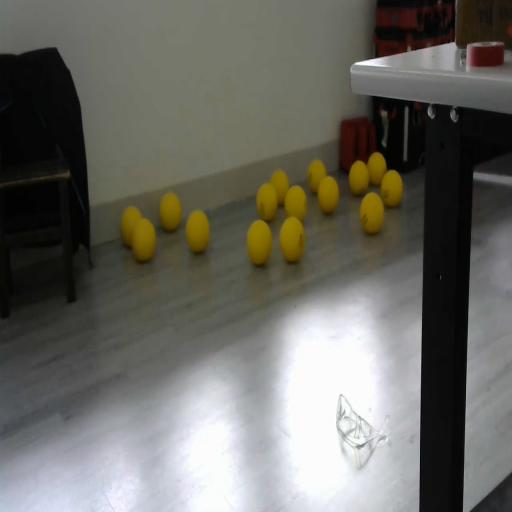FUEL: (278, 215, 306, 263), (246, 218, 273, 266), (184, 208, 211, 254), (120, 204, 144, 248), (360, 191, 384, 234), (284, 184, 308, 223), (380, 169, 404, 207), (159, 192, 181, 232), (317, 175, 340, 213), (348, 158, 369, 196), (366, 150, 387, 186), (270, 168, 288, 206)
